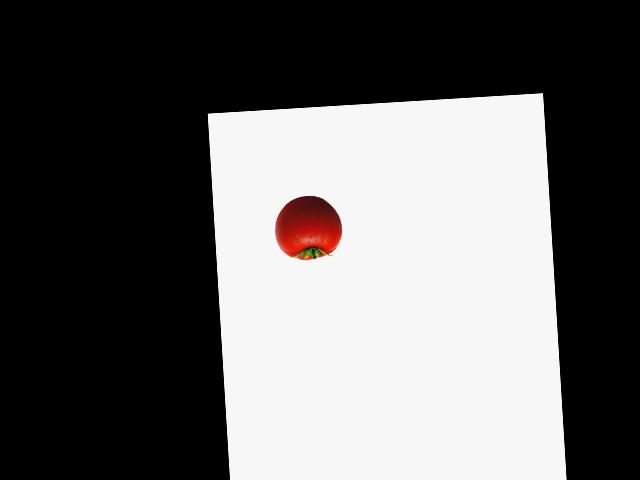tomato: (280, 194, 343, 261)
